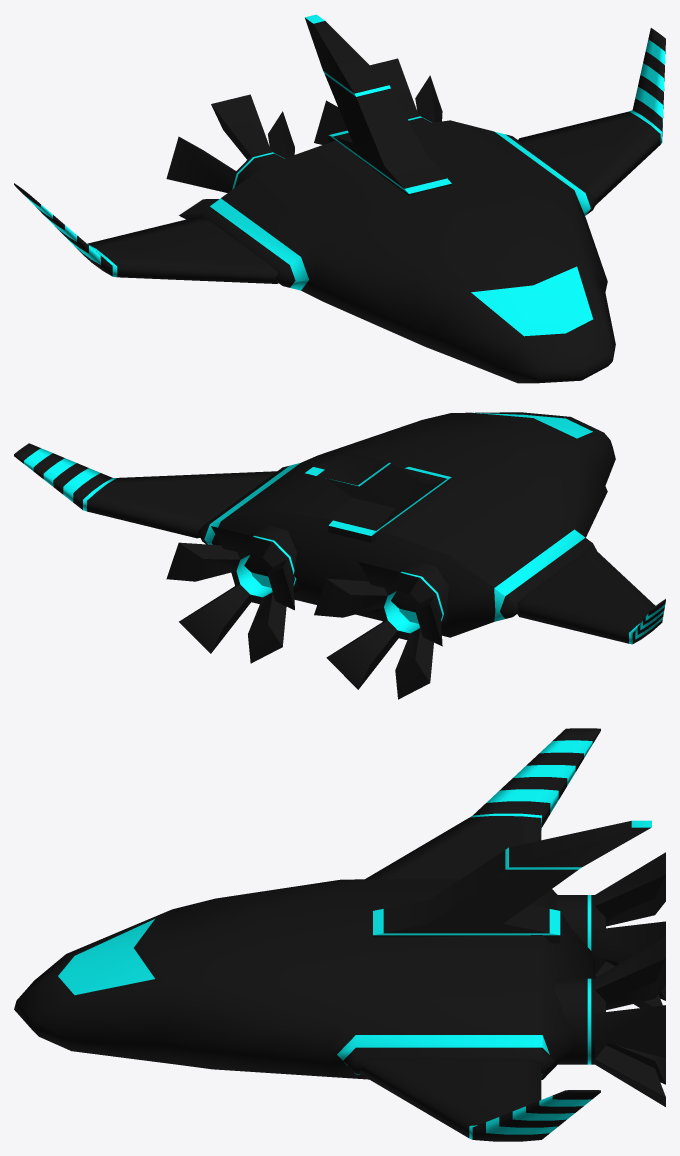
The model's file is Ship_4.fbx.
3 renders of one model, top to bottom at view 1: azimuth 30°, elevation 25°; view 2: azimuth 150°, elevation 25°; view 3: azimuth 270°, elevation 25°, orthographic. The views are drawn at different scales.
Parts seen in each view (by area): view 1: ShipPart_Body_4; view 2: ShipPart_Body_4; view 3: ShipPart_Body_4.
Part boxes in pixels (box(x1,y1,x2,y2)): ShipPart_Body_4: box(14, 14, 665, 383); ShipPart_Body_4: box(14, 412, 665, 699); ShipPart_Body_4: box(14, 728, 665, 1141).
Bounding box in the file's own units: 2.25 × 0.6686 × 1.72.
